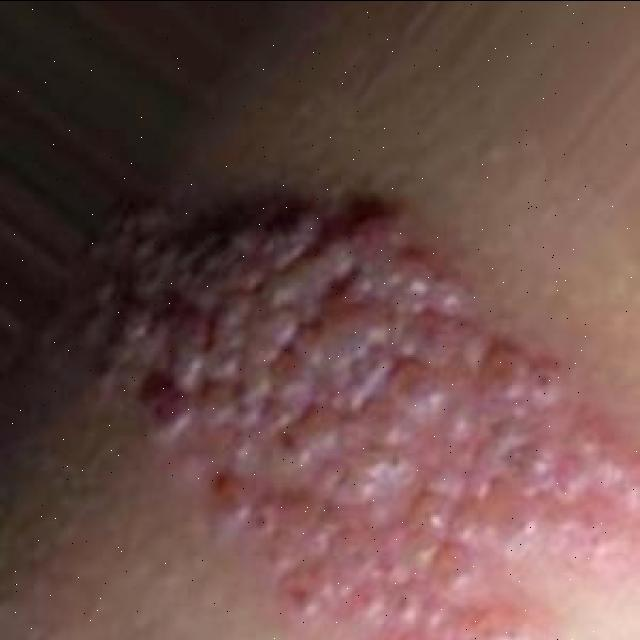Shingles: (124, 191, 630, 636)
